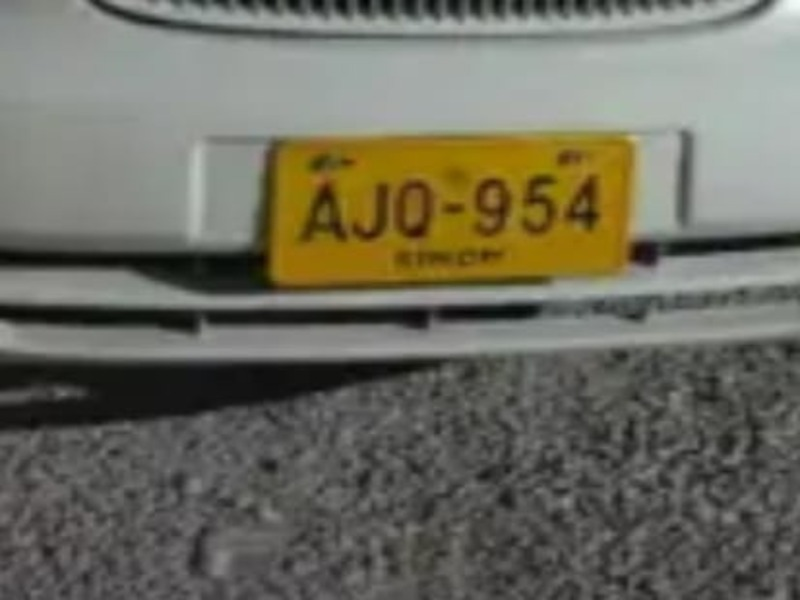License Plate: (260, 129, 638, 290)
